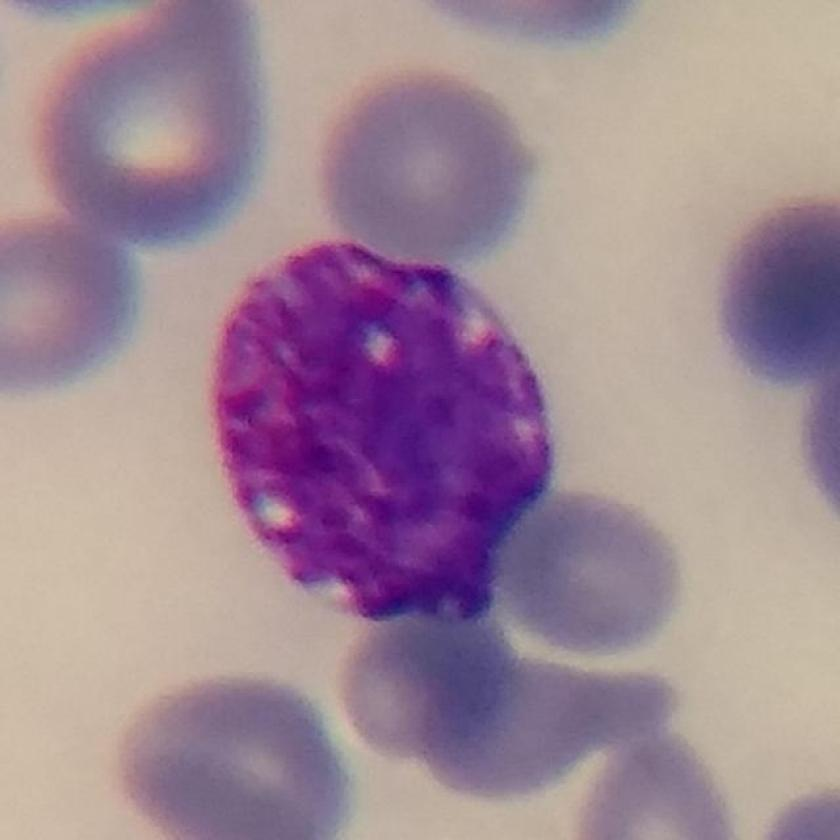basophil: (207, 219, 597, 641)
